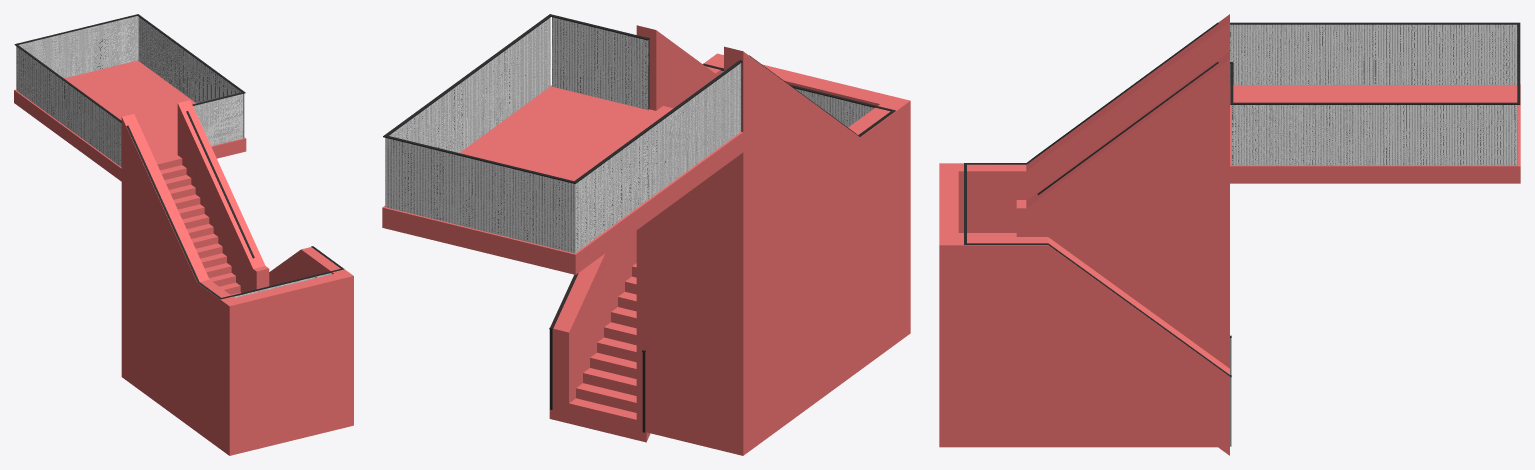
The model's file is Ext_stairs_02.fbx.
3 renders of one model, left to right at view 1: azimuth 30°, elevation 25°; view 2: azimuth 150°, elevation 25°; view 3: azimuth 270°, elevation 25°, orthographic. The views are drawn at different scales.
Parts seen in each view (by area): view 1: Ext_stairs_02, Ext_stairs_long_floor, handrail_floor_B_long, Ext_stairs_handrail_end_floor, handrail_floor_A_long, Ext_stairs_01, Ext_stairs_demi_floor, Ext_stairs_handrail_close_last, handrail_stairs, handrail_floor_B_demi; view 2: Ext_stairs_02, Ext_stairs_long_floor, Ext_stairs_handrail_end_floor, handrail_floor_B_long, handrail_floor_A_long, Ext_stairs_01, Ext_stairs_demi_floor, Ext_stairs_handrail_close_last, handrail_floor_B_demi, handrail_stairs, handrail_floor_A_demi, handrail_floor_A_quarter (+2 smaller); view 3: Ext_stairs_02, handrail_floor_A_long, handrail_floor_B_long, Ext_stairs_long_floor, handrail_floor_A_demi, handrail_floor_B_demi, Ext_stairs_demi_floor, Ext_stairs_01, handrail_stairs, Ext_stairs_quarter_floor, handrail_floor_B_quarter.
Boxes of the visible parts, <box> form: Ext_stairs_02: <box>121,100,353,455</box>; Ext_stairs_long_floor: <box>14,60,246,181</box>; handrail_floor_B_long: <box>15,44,121,167</box>; Ext_stairs_handrail_end_floor: <box>14,14,138,89</box>; handrail_floor_A_long: <box>137,15,244,137</box>; Ext_stairs_01: <box>121,157,240,351</box>; Ext_stairs_demi_floor: <box>68,103,245,179</box>; Ext_stairs_handrail_close_last: <box>192,92,243,146</box>; handrail_stairs: <box>126,111,343,299</box>; handrail_floor_B_demi: <box>68,83,121,165</box>; Ext_stairs_02: <box>549,25,910,455</box>; Ext_stairs_long_floor: <box>382,85,743,274</box>; Ext_stairs_handrail_end_floor: <box>383,135,577,253</box>; handrail_floor_B_long: <box>574,60,742,252</box>; handrail_floor_A_long: <box>385,15,550,152</box>; Ext_stairs_01: <box>549,131,896,442</box>; Ext_stairs_demi_floor: <box>469,86,743,213</box>; Ext_stairs_handrail_close_last: <box>551,15,649,109</box>; handrail_floor_B_demi: <box>657,61,742,192</box>; handrail_stairs: <box>549,40,895,432</box>; handrail_floor_A_demi: <box>468,14,552,145</box>; handrail_floor_A_quarter: <box>509,19,549,114</box>; Ext_stairs_02: <box>939,14,1229,447</box>; handrail_floor_A_long: <box>1233,102,1517,165</box>; handrail_floor_B_long: <box>1230,22,1517,84</box>; Ext_stairs_long_floor: <box>1230,84,1520,183</box>; handrail_floor_A_demi: <box>1230,102,1375,165</box>; handrail_floor_B_demi: <box>1230,22,1374,84</box>; Ext_stairs_demi_floor: <box>1230,85,1375,183</box>; Ext_stairs_01: <box>963,233,1229,455</box>; handrail_stairs: <box>964,22,1231,446</box>; Ext_stairs_quarter_floor: <box>1230,85,1302,183</box>; handrail_floor_B_quarter: <box>1230,22,1302,84</box>.
Bounding box in the file's own units: 200 × 410 × 600.
23 materials, 9 textured.
